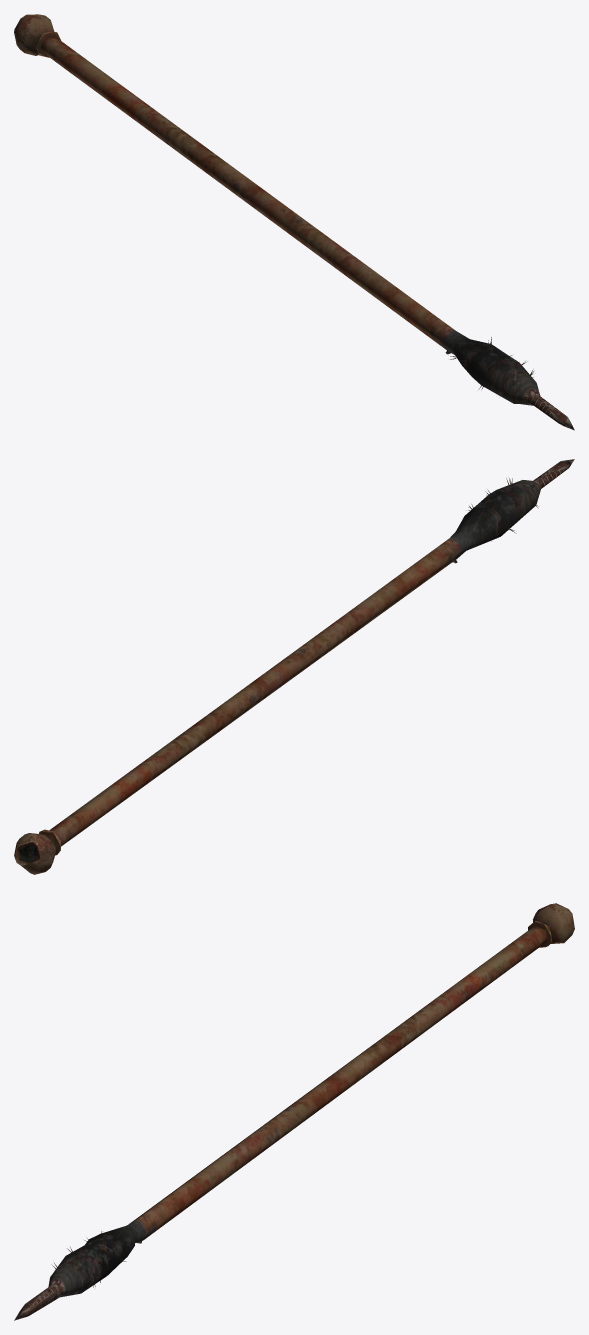
Rendered from w_ballista_incendiary.glb.
3 renders of one model, top to bottom at view 1: azimuth 30°, elevation 25°; view 2: azimuth 150°, elevation 25°; view 3: azimuth 330°, elevation 25°, orthographic.
Visible parts, largest first — view 1: w_ballista_incendiary_lod0; view 2: w_ballista_incendiary_lod0; view 3: w_ballista_incendiary_lod0.
Part boxes in pixels (box(x1,y1,x2,y2)): w_ballista_incendiary_lod0: box(14, 14, 574, 430); w_ballista_incendiary_lod0: box(14, 459, 574, 874); w_ballista_incendiary_lod0: box(14, 903, 574, 1320).
Bounding box in the file's own units: 0.1059 × 0.109 × 2.1.
1 material, 1 textured.
